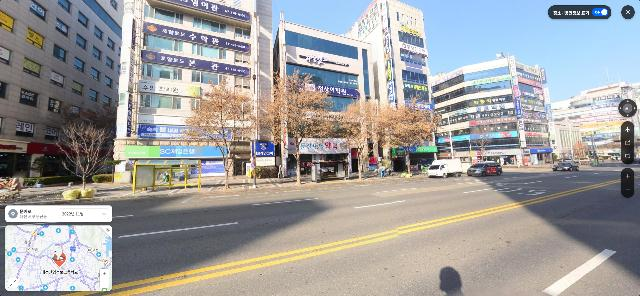other: (259, 67, 337, 184), (183, 73, 256, 189), (378, 97, 436, 177), (333, 95, 386, 180), (55, 116, 111, 193)
